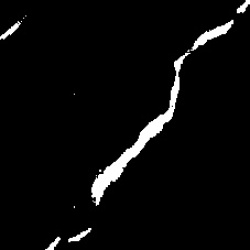crack: (89, 21, 237, 208), (3, 19, 28, 39), (68, 227, 91, 242), (46, 237, 60, 247), (237, 4, 246, 16)
pinhole: (71, 202, 82, 210)
